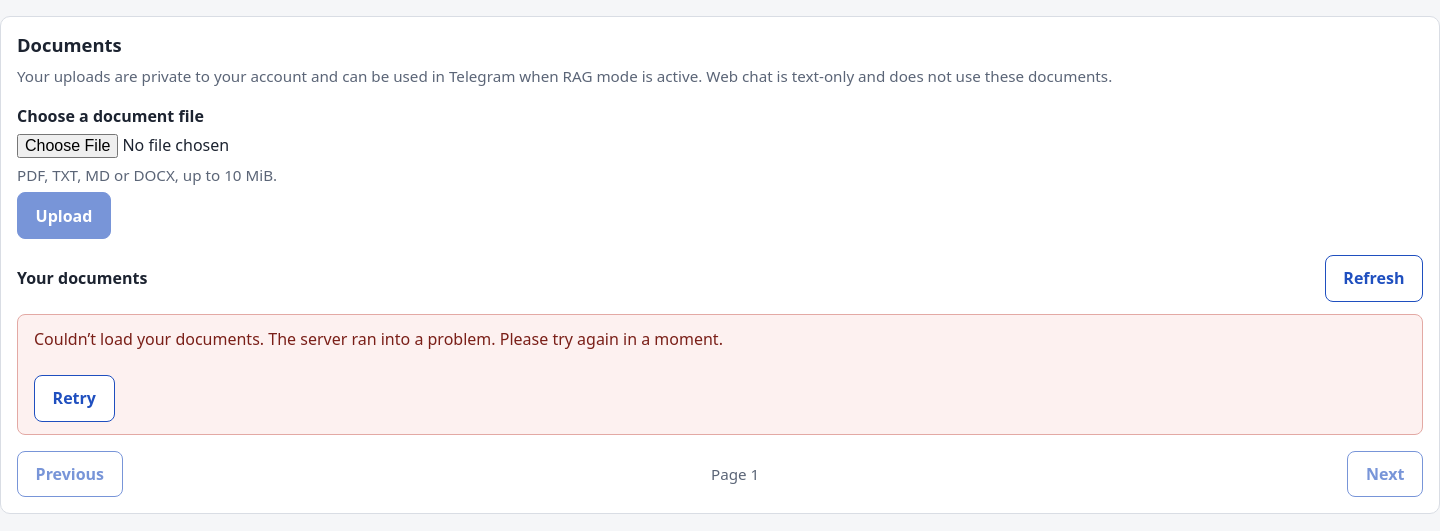
Test case: load failure and Retry › after HTTP 503: a safe local error, an explicit Retry that can succeed, and no automatic retry
Expected: the message shows "Couldn’t load your documents.", left=34, top=328, right=268, bottom=350
Expected: the message shows "The server ran into a problem. Please try again in a moment.", left=268, top=328, right=723, bottom=350
Click the button "Retry": (74, 398) left=34, top=375, right=114, bottom=422
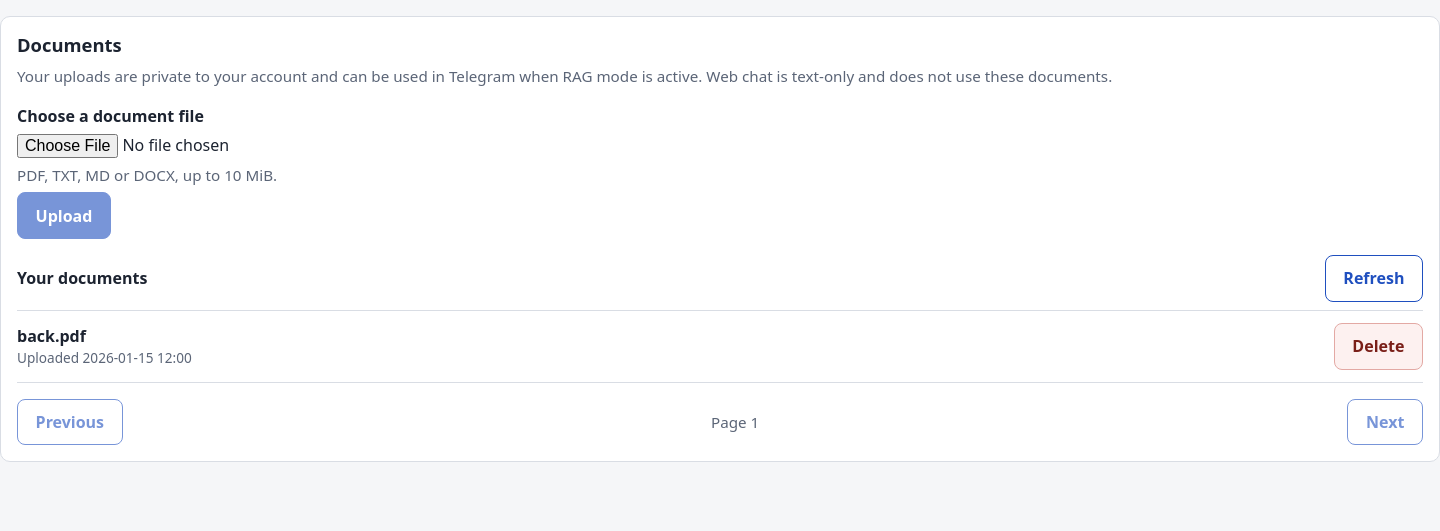
Result: the message is gone
